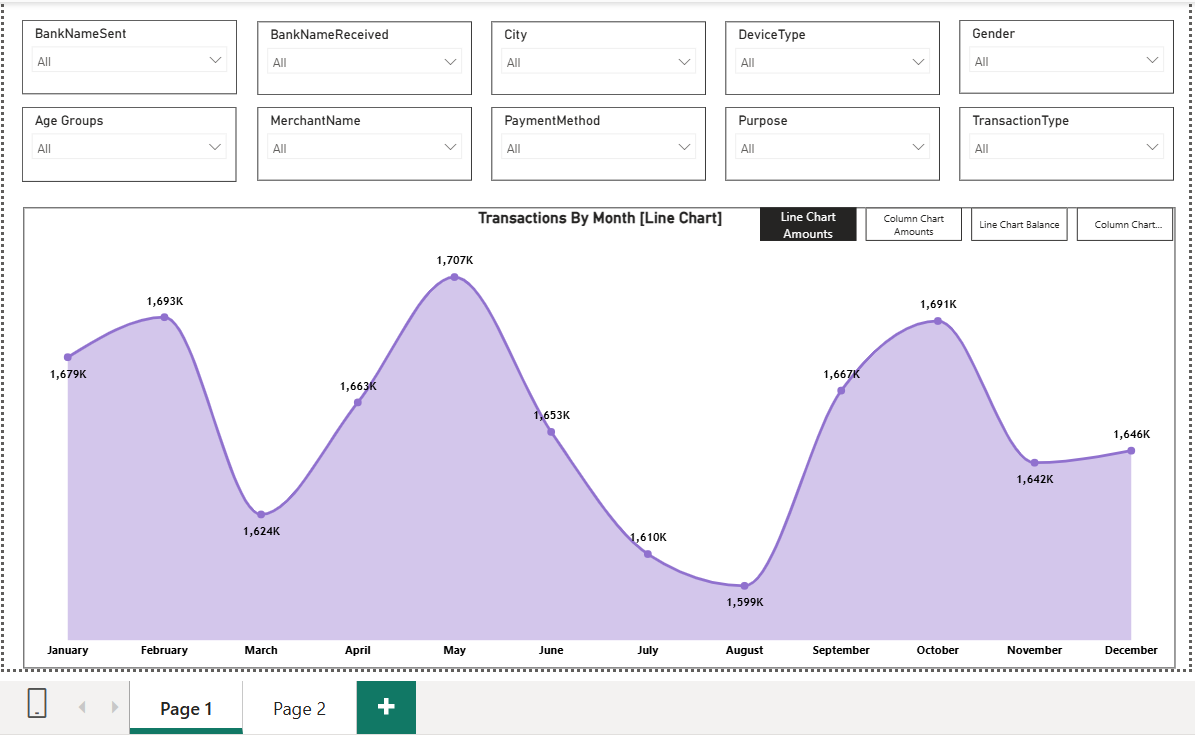

What the dashboard file says about the page in this screenshot:
{"tool":"powerbi","page":{"name":"Page 1","canvas":[1280,720],"ordinal":0},"visuals":[{"type":"slicer","fields":{"Values":["UPI Transactions.BankNameSent"]},"box":[20,20,232,80],"z":0},{"type":"slicer","fields":{"Values":["UPI Transactions.BankNameReceived"]},"box":[273.2,21,231.5,79.3],"z":1000},{"type":"slicer","fields":{"Values":["UPI Transactions.City"]},"box":[525.9,21,231.5,79.3],"z":2000},{"type":"slicer","fields":{"Values":["UPI Transactions.DeviceType"]},"box":[778.7,21,231.5,79.3],"z":3000},{"type":"slicer","fields":{"Values":["UPI Transactions.Gender"]},"box":[1031.4,19.4,231.5,79.3],"z":4000},{"type":"slicer","fields":{"Values":["UPI Transactions.Age Groups"]},"box":[19.4,113.7,231.5,81],"z":5000},{"type":"slicer","fields":{"Values":["UPI Transactions.MerchantName"]},"box":[273.6,113.7,231.5,79.3],"z":6000},{"type":"slicer","fields":{"Values":["UPI Transactions.PaymentMethod"]},"box":[526.2,113.7,231.5,79.3],"z":7000},{"type":"slicer","fields":{"Values":["UPI Transactions.Purpose"]},"box":[778.8,113.7,231.5,79.3],"z":8000},{"type":"slicer","fields":{"Values":["UPI Transactions.TransactionType"]},"box":[1031.4,113.7,231.5,79.3],"z":9000},{"type":"columnChart","title":"Transactions By Month [Column Chart]","fields":{"Category":["UPI Transactions.TransactionDate.Variation.Date Hierarchy.Month"],"Y":["Sum(UPI Transactions.Amount)"]},"box":[19.4,221.8,1243.6,497.1],"z":10000},{"type":"bookmarkNavigator","box":[815.3,221.6,448.2,36.4],"z":14000}]}

Visuals, with their boxes in screenshot pixels (x1, y1, x2, y2):
slicer - UPI Transactions.BankNameSent: x1=25, y1=18, x2=238, y2=92
slicer - UPI Transactions.BankNameReceived: x1=258, y1=19, x2=471, y2=92
slicer - UPI Transactions.City: x1=490, y1=19, x2=704, y2=92
slicer - UPI Transactions.DeviceType: x1=723, y1=19, x2=936, y2=92
slicer - UPI Transactions.Gender: x1=956, y1=18, x2=1169, y2=91
slicer - UPI Transactions.Age Groups: x1=24, y1=105, x2=237, y2=179
slicer - UPI Transactions.MerchantName: x1=258, y1=105, x2=471, y2=178
slicer - UPI Transactions.PaymentMethod: x1=491, y1=105, x2=704, y2=178
slicer - UPI Transactions.Purpose: x1=723, y1=105, x2=936, y2=178
slicer - UPI Transactions.TransactionType: x1=956, y1=105, x2=1169, y2=178
"Transactions By Month [Column Chart]" columnChart: x1=24, y1=204, x2=1169, y2=662
bookmarkNavigator: x1=757, y1=204, x2=1170, y2=238
